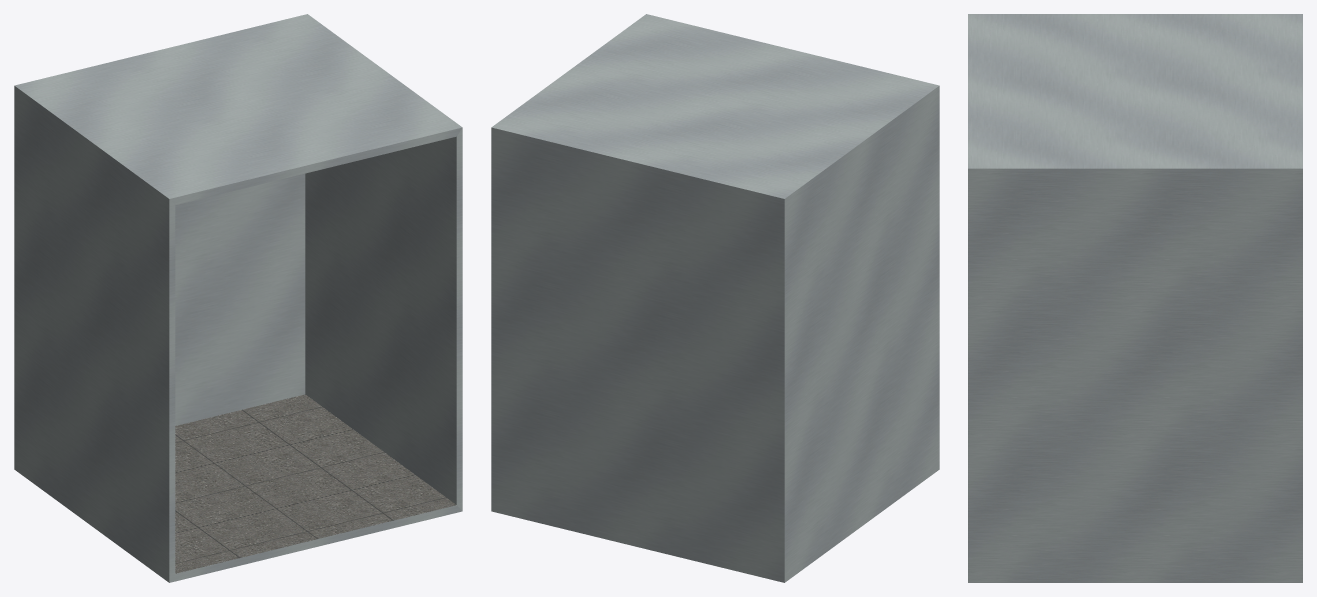
File: Elevator.obj
3 views of the same model, side by side, from view 1: azimuth 30°, elevation 25°; view 2: azimuth 150°, elevation 25°; view 3: azimuth 270°, elevation 25° (orthographic). The views are drawn at different scales.
Parts seen in each view (by area): view 1: Elevator_mesh; view 2: Elevator_mesh; view 3: Elevator_mesh.
Part boxes in pixels (<box>): Elevator_mesh: <box>14,14,462,582</box>; Elevator_mesh: <box>491,14,939,582</box>; Elevator_mesh: <box>968,14,1302,582</box>.
Size of the model in its own units: 2.4 by 3 by 2.2.
